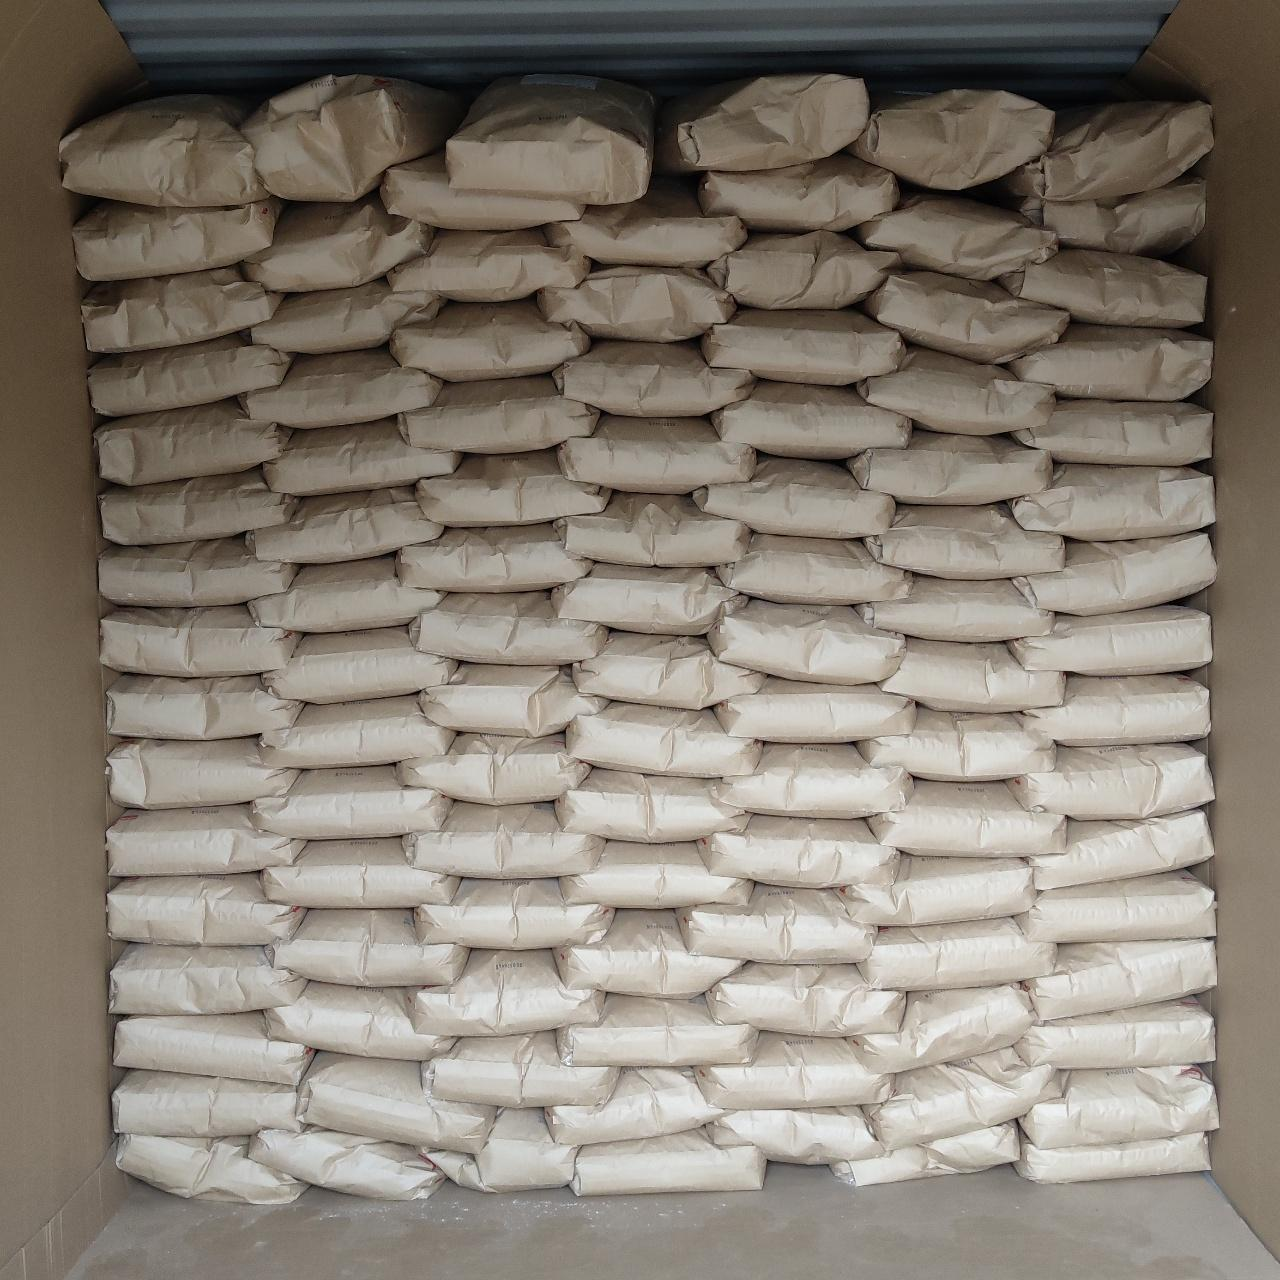sack: (241, 74, 467, 198), (450, 76, 652, 202), (62, 96, 268, 206), (996, 102, 1212, 204), (656, 74, 869, 172), (850, 90, 1054, 190), (300, 1051, 493, 1150), (866, 1050, 1060, 1146), (862, 272, 1068, 360), (246, 196, 430, 290), (856, 192, 1054, 278), (856, 348, 1054, 433), (546, 182, 744, 266), (76, 198, 280, 278), (1016, 532, 1214, 614), (96, 400, 288, 484), (82, 268, 278, 350), (852, 983, 1036, 1070), (410, 952, 602, 1034), (1000, 250, 1206, 326), (392, 300, 588, 380), (694, 456, 892, 535), (556, 912, 740, 996), (90, 336, 290, 414), (1008, 322, 1210, 399), (240, 348, 438, 425), (400, 376, 598, 452), (700, 154, 898, 230), (382, 154, 583, 229), (710, 600, 903, 678), (560, 416, 754, 492), (554, 340, 754, 414), (1024, 940, 1214, 1017), (846, 430, 1051, 502), (704, 308, 903, 382), (712, 382, 910, 456), (1010, 464, 1214, 536), (1024, 1065, 1216, 1142), (708, 232, 898, 308), (404, 802, 600, 876), (870, 779, 1062, 855), (266, 418, 458, 493), (268, 910, 467, 982), (680, 886, 874, 960), (574, 632, 762, 708), (114, 1012, 309, 1084), (266, 982, 452, 1058), (250, 556, 442, 629), (696, 1034, 888, 1108), (1008, 744, 1212, 813), (418, 450, 608, 524), (264, 628, 454, 702), (390, 230, 590, 300), (102, 470, 298, 542), (424, 1032, 617, 1104), (250, 488, 438, 561), (252, 765, 450, 836), (1017, 872, 1214, 942), (1030, 810, 1212, 886), (1022, 178, 1204, 254), (540, 268, 734, 340), (860, 708, 1054, 779), (410, 592, 606, 662), (700, 816, 896, 886), (556, 492, 748, 564), (708, 964, 903, 1034), (250, 280, 444, 350), (860, 918, 1054, 988), (252, 1128, 445, 1198), (558, 994, 756, 1062), (1016, 1000, 1214, 1068), (866, 506, 1062, 574), (108, 874, 302, 942), (108, 806, 302, 874), (719, 744, 910, 813), (719, 535, 910, 604), (116, 1133, 304, 1204), (110, 944, 304, 1012), (416, 880, 610, 948), (263, 838, 456, 906), (568, 704, 758, 774), (263, 696, 452, 765), (1010, 606, 1210, 672), (842, 856, 1034, 924), (102, 606, 300, 672), (422, 663, 606, 734), (1022, 674, 1206, 744), (400, 734, 588, 802), (100, 538, 294, 604), (881, 640, 1062, 710), (110, 738, 297, 806), (558, 770, 744, 838), (561, 842, 750, 908), (399, 524, 590, 590), (716, 676, 914, 740), (1012, 400, 1212, 462), (546, 1070, 719, 1142), (554, 564, 742, 629), (574, 1130, 764, 1194), (108, 676, 302, 738), (424, 1110, 576, 1190), (858, 576, 1051, 638), (114, 1070, 302, 1133), (832, 1124, 1020, 1182), (706, 1108, 881, 1164), (1016, 1130, 1206, 1182)
